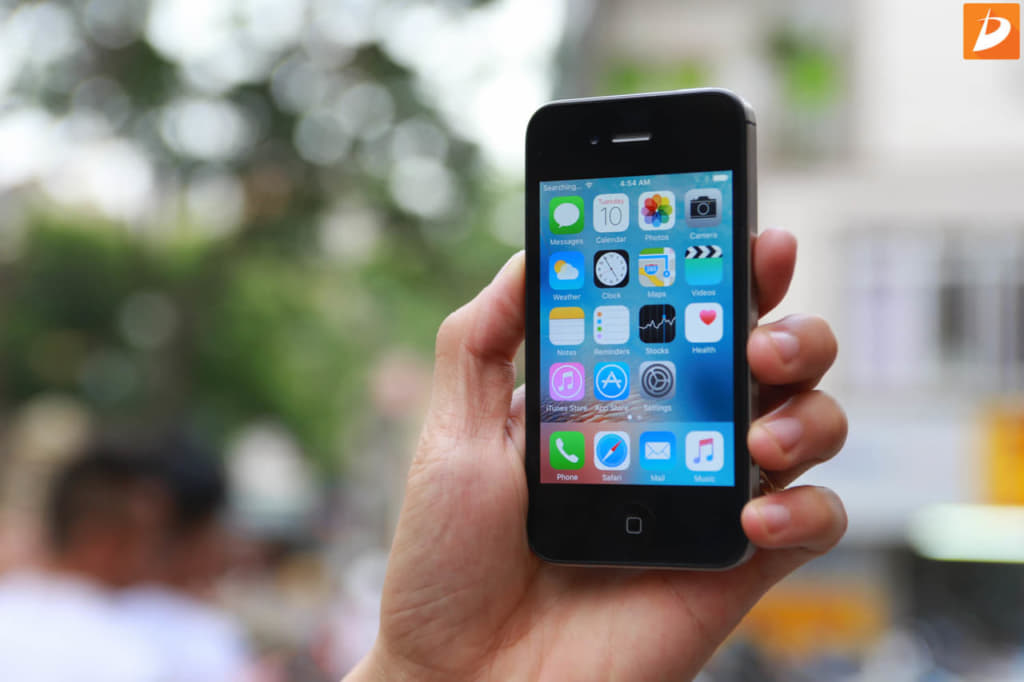iphone4: (513, 73, 755, 576)
